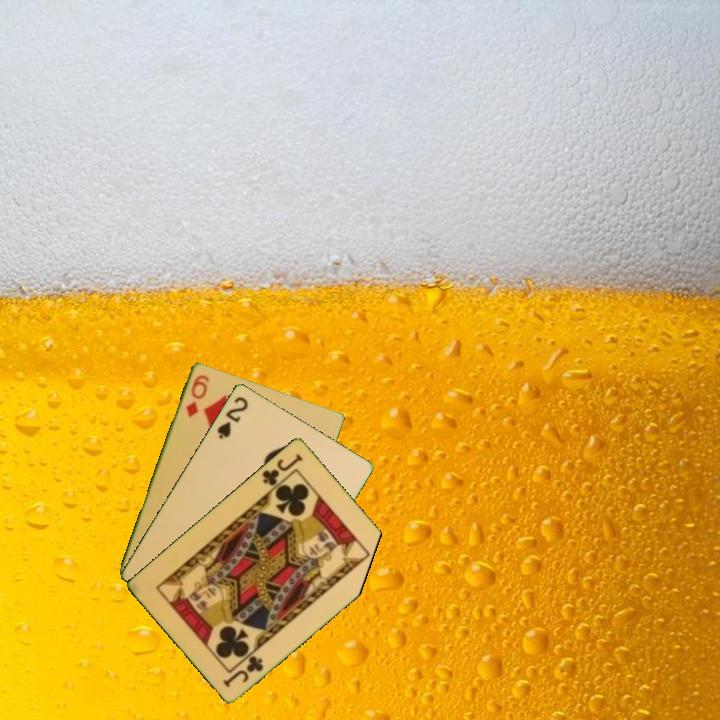2s: (213, 392, 251, 442)
6d: (182, 371, 212, 420)
Jc: (258, 449, 306, 489), (219, 652, 267, 690)
